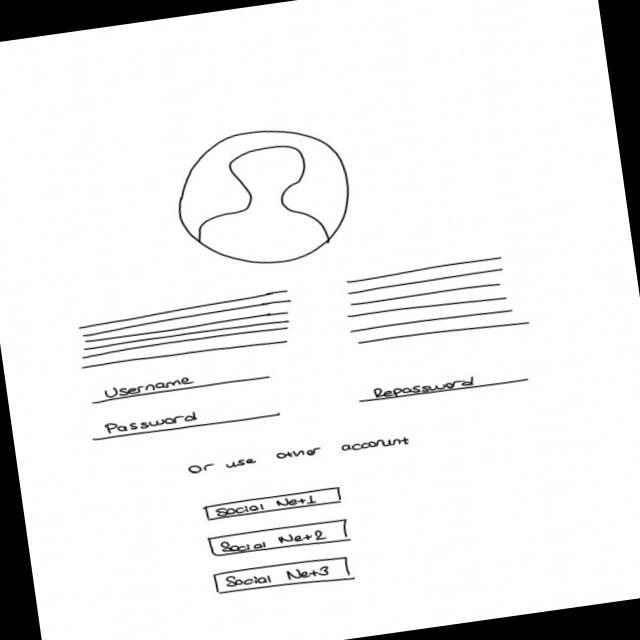button: (212, 553, 360, 602), (208, 518, 355, 563), (203, 487, 346, 525)
image: (169, 118, 361, 278)
input: (90, 399, 284, 445), (87, 365, 272, 407), (355, 365, 532, 408)
label: (186, 431, 416, 479)
textbox: (73, 288, 301, 376), (341, 253, 534, 352)
